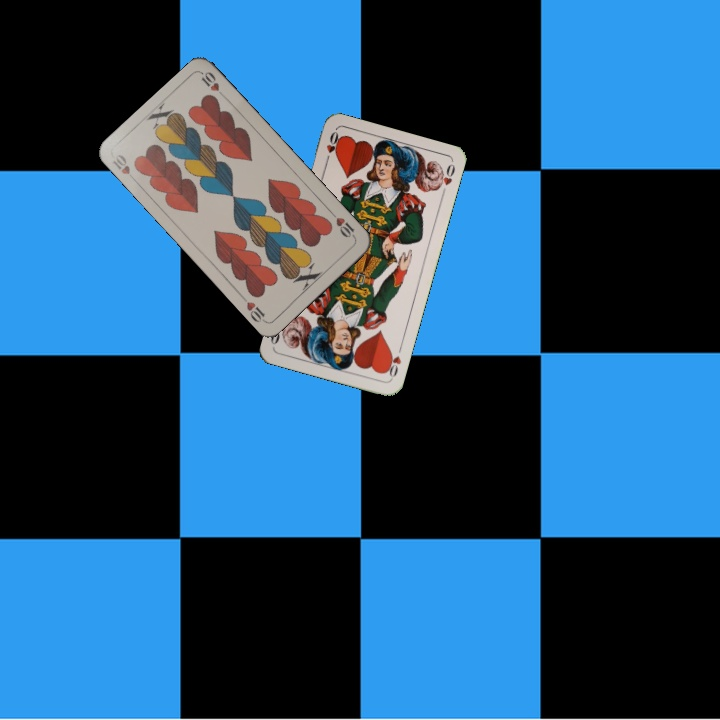H10: (108, 150, 140, 186), (327, 208, 358, 241)
HO: (381, 341, 404, 381), (321, 127, 343, 167)
